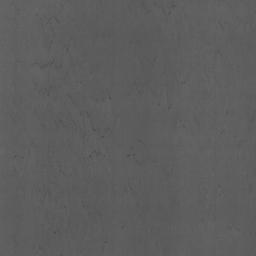Silk spot: (32, 56, 62, 69), (80, 150, 101, 161), (126, 153, 142, 165), (39, 85, 56, 96), (40, 16, 60, 24), (54, 119, 67, 128)
